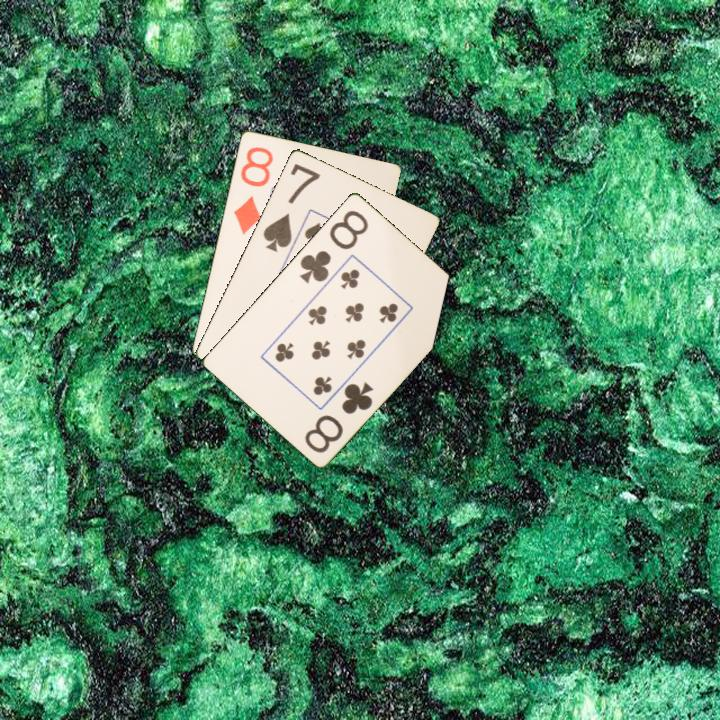7s: (259, 160, 323, 254)
8c: (296, 206, 371, 286), (301, 378, 376, 456)
8d: (230, 143, 276, 237)
